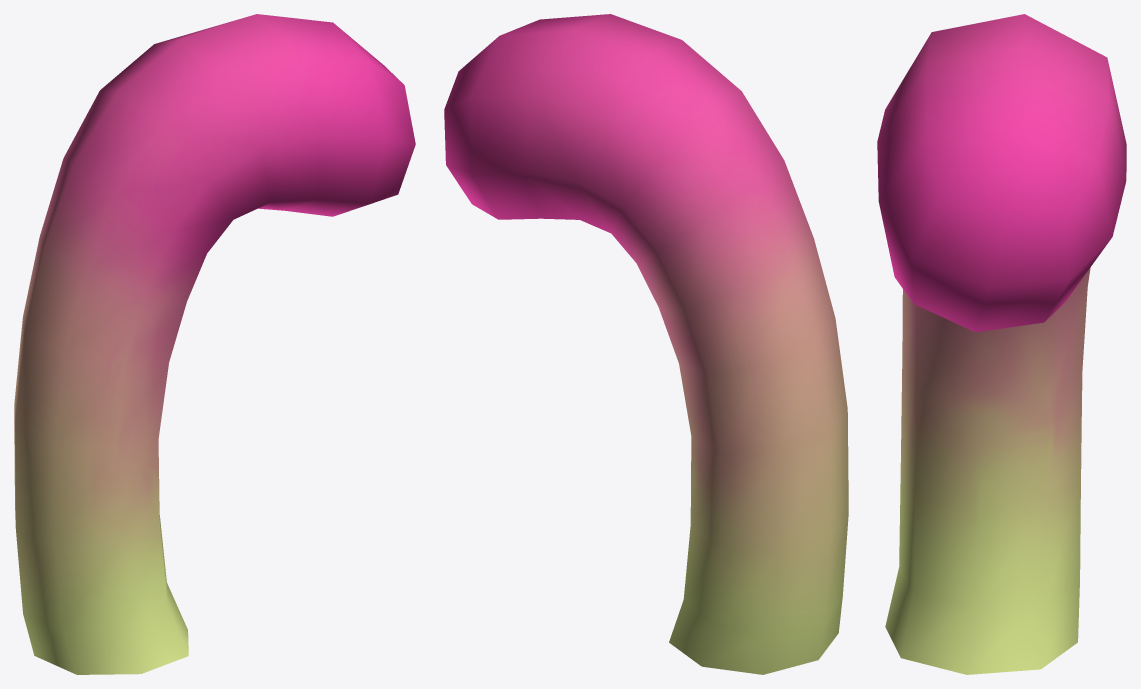
Rendered from big_flople.fbx.
3 renders of one model, left to right at view 1: azimuth 30°, elevation 25°; view 2: azimuth 150°, elevation 25°; view 3: azimuth 270°, elevation 25°, orthographic. The views are drawn at different scales.
Visible parts, largest first — view 1: flople; view 2: flople; view 3: flople.
Boxes of the visible parts, left/top/right/bottom form: flople: left=14, top=14, right=415, bottom=674; flople: left=444, top=14, right=848, bottom=674; flople: left=877, top=14, right=1126, bottom=674.
Bounding box in the file's own units: 529 × 783 × 260.
